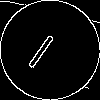I: (25, 25, 63, 70)
